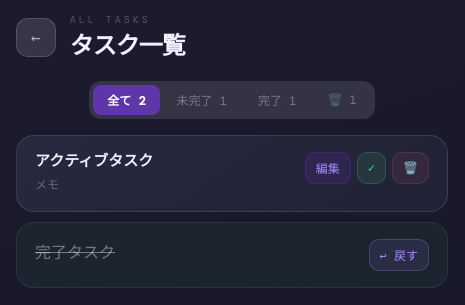
ListView — フィルター表示 › 未完了: active のみ表示
Click the button "未完了 1". click: click(202, 100)
box: [163, 85, 241, 115]
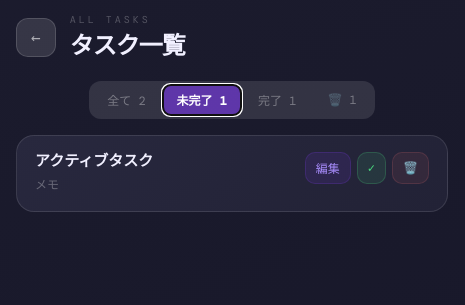
Expected: the text "アクティブタスク" is shown, [35, 152, 153, 170]
Expected: the text "完了タスク" is gone
